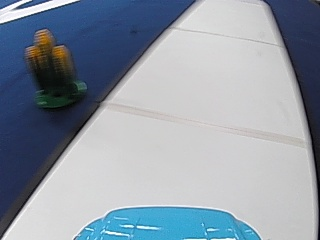corn: (24, 25, 84, 111)
